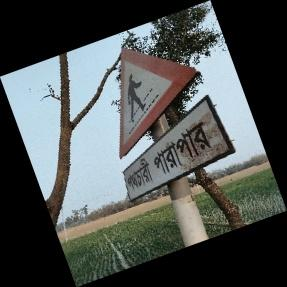Pedestrian-crossing: (117, 46, 236, 204)
